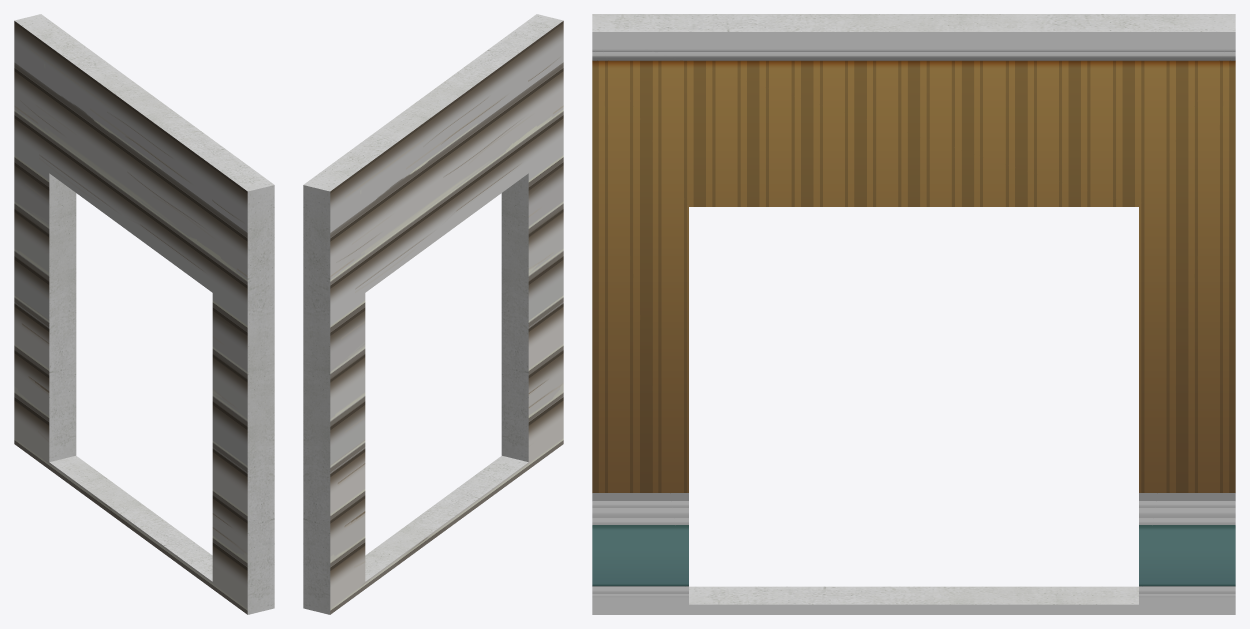
The model's file is wall01_door2m.fbx.
3 views of the same model, side by side, from view 1: azimuth 30°, elevation 25°; view 2: azimuth 150°, elevation 25°; view 3: azimuth 270°, elevation 25° (orthographic). The views are drawn at different scales.
Visible parts, largest first — view 1: wall01_door2m; view 2: wall01_door2m; view 3: wall01_door2m.
Part boxes in pixels (x1=…): wall01_door2m: x1=14, y1=14, x2=274, y2=614; wall01_door2m: x1=303, y1=14, x2=563, y2=614; wall01_door2m: x1=592, y1=14, x2=1235, y2=614.
Size of the model in its own units: 20 by 300 by 300.
